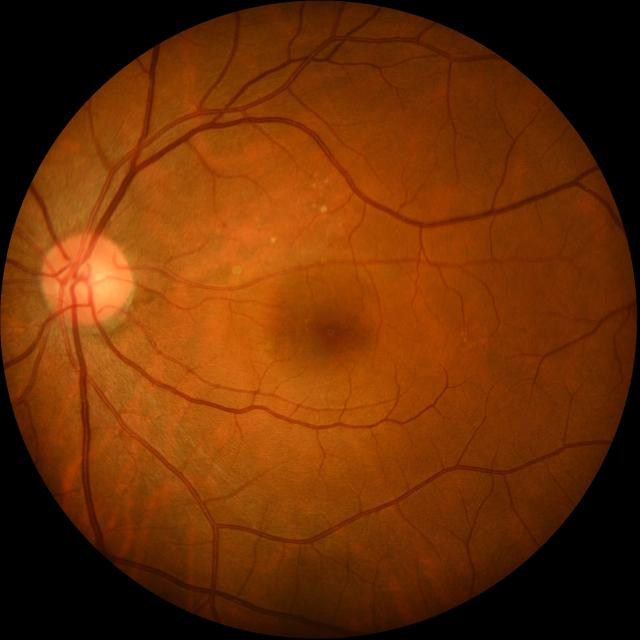OC: (71, 264, 108, 297)
OD: (39, 232, 132, 325)
